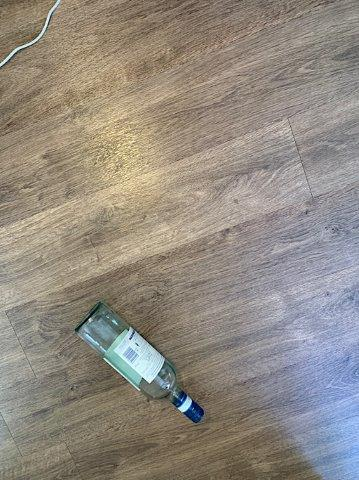botolkaca: (73, 301, 203, 423)
